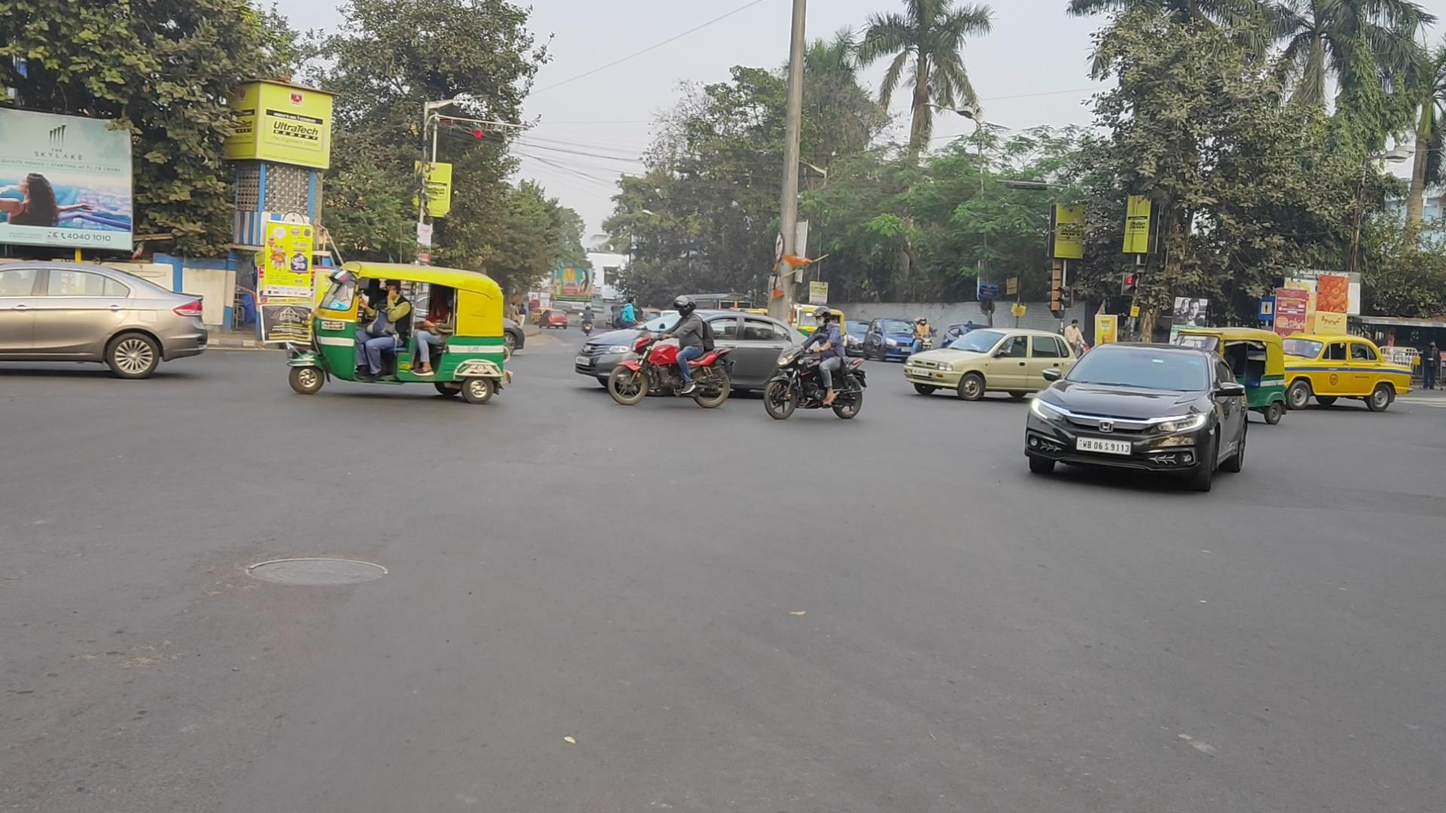Auto: (287, 260, 511, 405), (1170, 327, 1287, 425)
bike: (608, 294, 733, 406), (764, 307, 864, 419), (910, 315, 938, 365)
car: (1026, 340, 1249, 490), (1, 260, 206, 379), (576, 309, 826, 397), (905, 327, 1087, 402), (1279, 333, 1412, 413), (862, 317, 923, 363)
